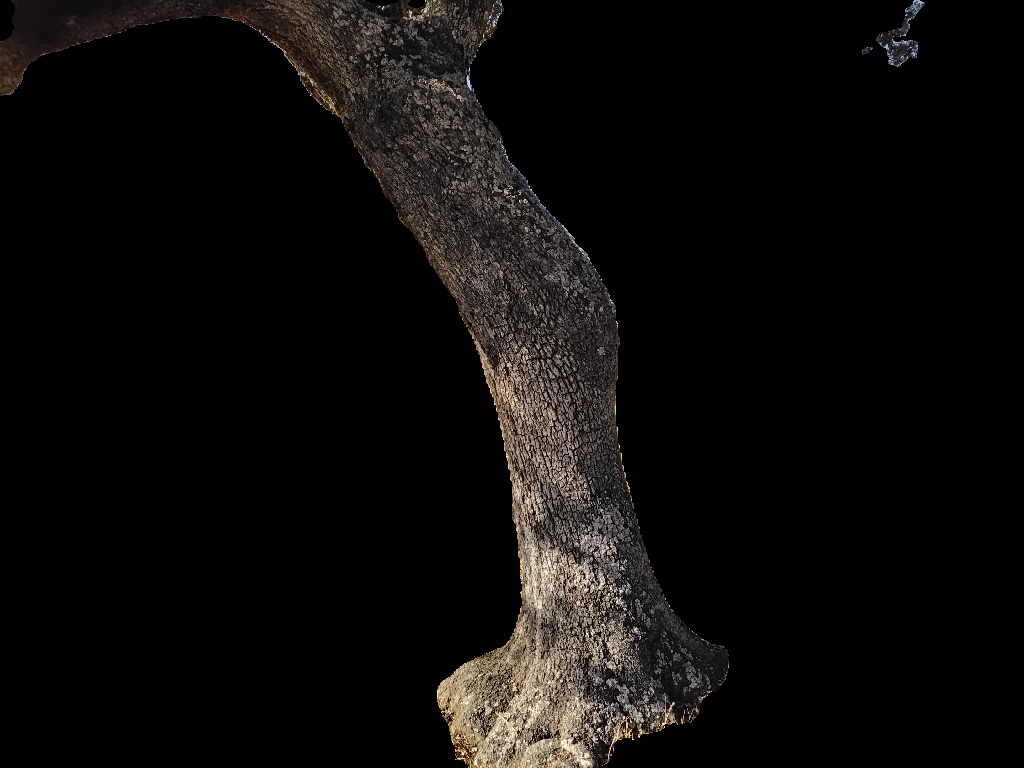Injure: (579, 251, 620, 400)
